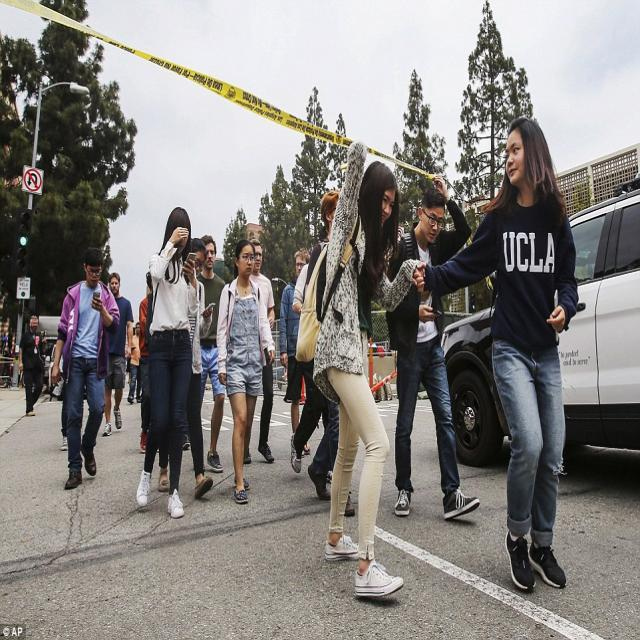body: (411, 115, 580, 597), (295, 138, 428, 604), (380, 170, 484, 525), (135, 204, 201, 519), (48, 245, 122, 493), (304, 188, 357, 517), (215, 238, 278, 507), (157, 236, 216, 501), (289, 223, 334, 485), (243, 237, 275, 465), (278, 245, 312, 459), (196, 233, 226, 473), (101, 271, 135, 438), (138, 269, 156, 454), (18, 314, 47, 419), (126, 321, 142, 406), (124, 325, 138, 388), (0, 340, 16, 384)
